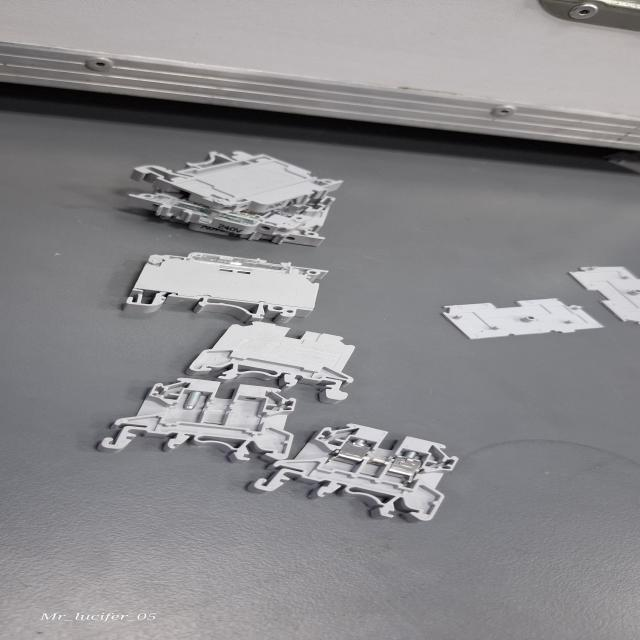Inverted: (166, 298, 405, 406)
Pass: (246, 407, 496, 542)
Reject: (74, 361, 348, 477)
